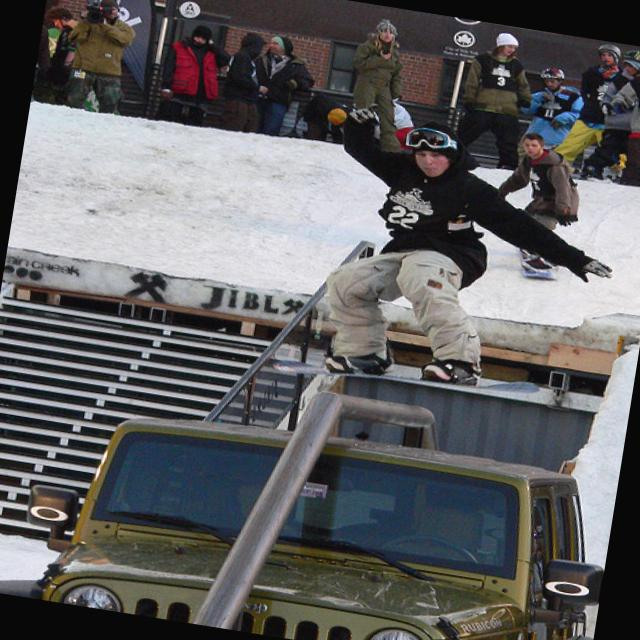Vehicle: (11, 344, 625, 640), (0, 376, 619, 640)
